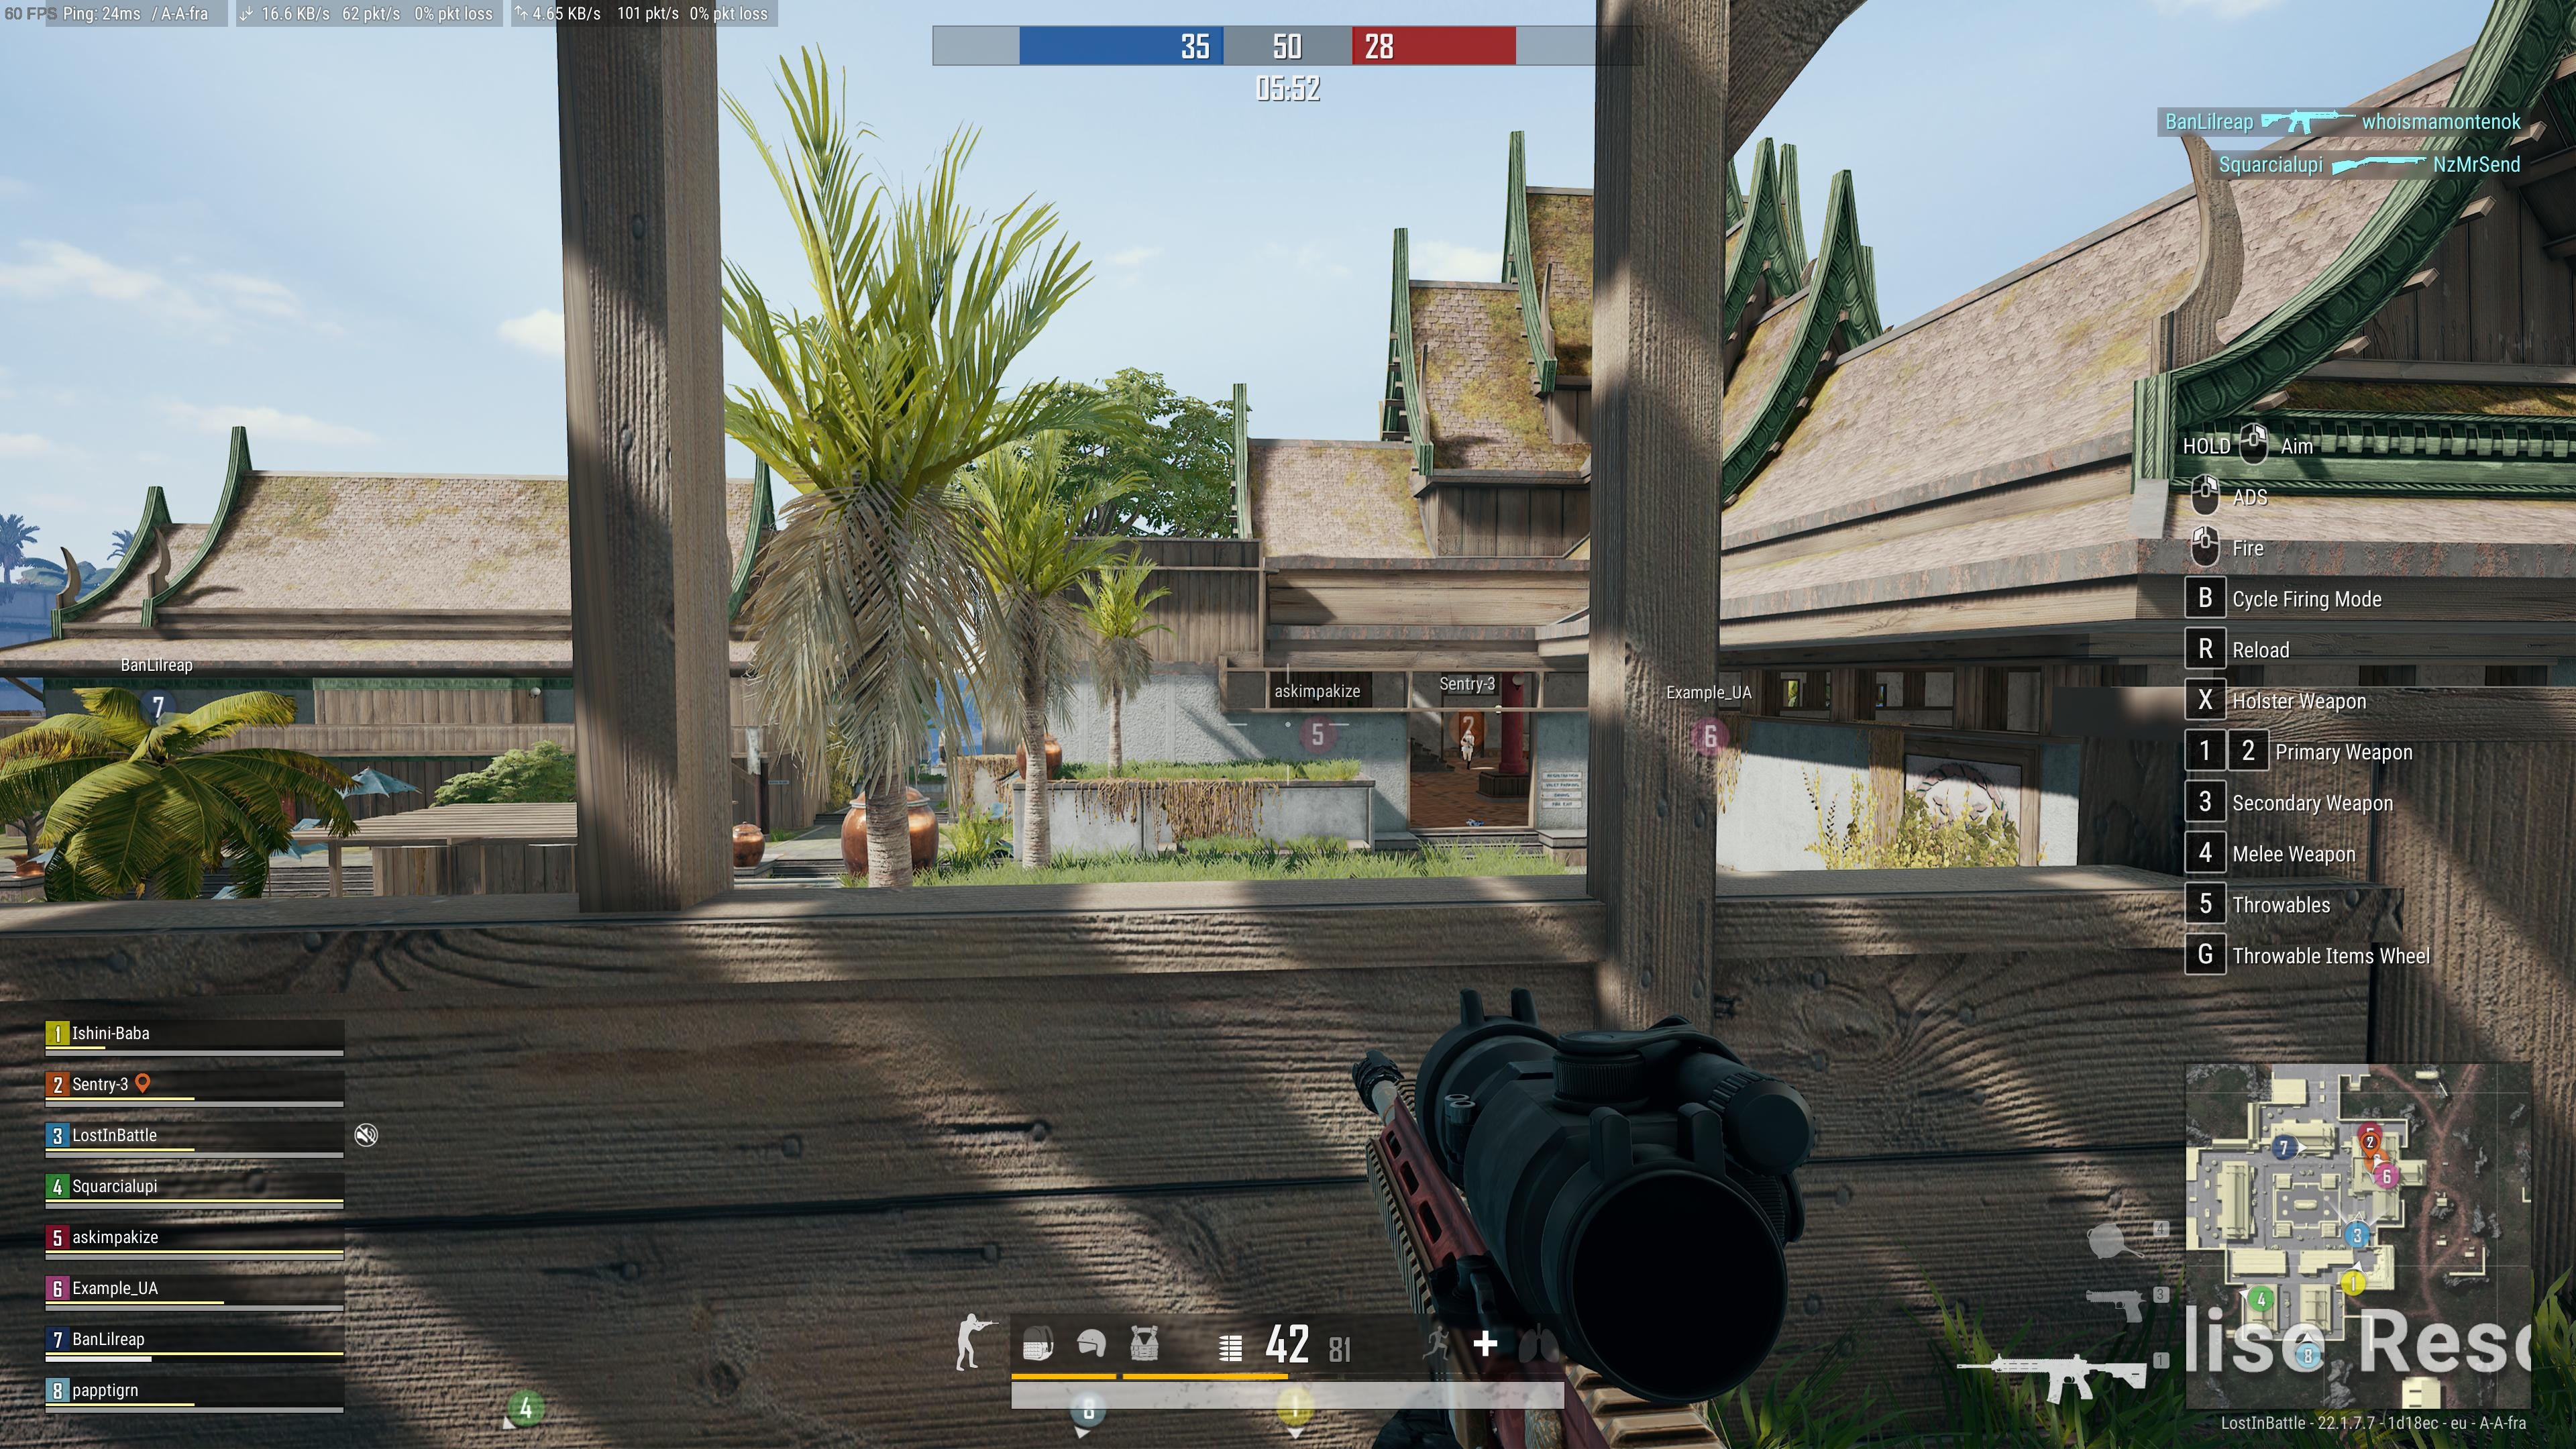friendly: (1458, 725, 1476, 770)
